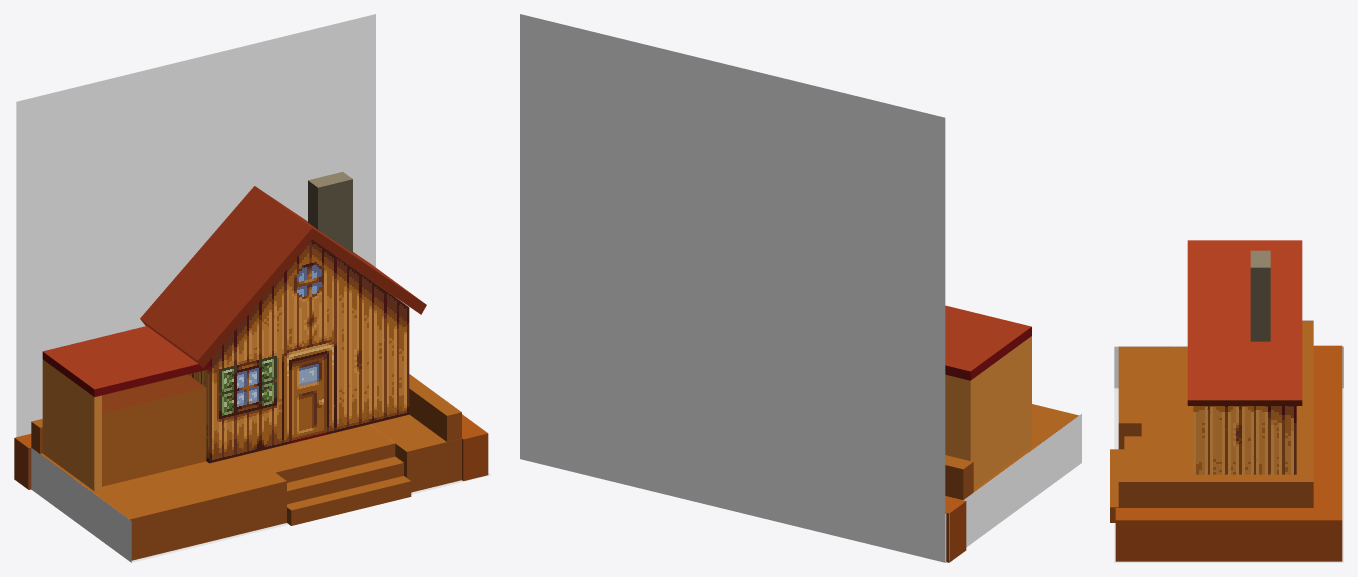
Rendered from farmhouse.gltf.
3 renders of one model, left to right at view 1: azimuth 30°, elevation 25°; view 2: azimuth 150°, elevation 25°; view 3: azimuth 270°, elevation 25°, orthographic. The views are drawn at different scales.
Visible parts, largest first — view 1: maxHeight, house, ceilingWest, porchBase_west, logs, logs_ceiling, logs_sidewall, porchBase_middle, porch, porchBase_east, step1, chimney (+6 smaller); view 2: maxHeight, logs_sidewall, porch, logs_ceiling, logs_backwall, porchBase_west, porchrailOuter_north, porchrailInner_north; view 3: ceilingEast, porchrailOuter_east, house, porchrailInner_east, porchBase_west, porchrailOuter_north, porchBase_middle, porchrailInner_north, chimney, footprint, step1, step2.
Part boxes in pixels (left/top/right/bottom): maxHeight: left=16, top=14, right=375, bottom=436; house: left=188, top=240, right=409, bottom=463; ceilingWest: left=140, top=186, right=312, bottom=367; porchBase_west: left=40, top=453, right=286, bottom=560; logs: left=102, top=374, right=206, bottom=486; logs_ceiling: left=42, top=326, right=209, bottom=397; logs_sidewall: left=42, top=359, right=101, bottom=491; porchBase_middle: left=250, top=424, right=395, bottom=482; porch: left=16, top=437, right=131, bottom=562; porchBase_east: left=370, top=414, right=461, bottom=492; step1: left=287, top=476, right=411, bottom=525; chimney: left=308, top=172, right=352, bottom=252; maxHeight: left=520, top=14, right=945, bottom=562; logs_sidewall: left=961, top=336, right=1031, bottom=489; porch: left=945, top=414, right=1081, bottom=562; logs_ceiling: left=945, top=305, right=1031, bottom=380; logs_backwall: left=945, top=374, right=961, bottom=458; porchBase_west: left=973, top=404, right=1078, bottom=492; porchrailOuter_north: left=945, top=496, right=966, bottom=562; porchrailInner_north: left=945, top=455, right=973, bottom=499; ceilingEast: left=1187, top=240, right=1302, bottom=405; porchrailOuter_east: left=1115, top=508, right=1342, bottom=561; house: left=1193, top=406, right=1296, bottom=474; porchrailInner_east: left=1118, top=474, right=1313, bottom=507; porchBase_west: left=1118, top=346, right=1193, bottom=449; porchrailOuter_north: left=1313, top=345, right=1342, bottom=507; porchBase_middle: left=1141, top=423, right=1193, bottom=474; porchrailInner_north: left=1296, top=320, right=1313, bottom=474; chimney: left=1250, top=250, right=1270, bottom=341; footprint: left=1114, top=388, right=1343, bottom=562; step1: left=1110, top=449, right=1124, bottom=522; step2: left=1124, top=436, right=1141, bottom=474.
Bounding box in the file's own units: 9.06 × 9 × 5.09.
Materials: 4 (1 with a texture image).
